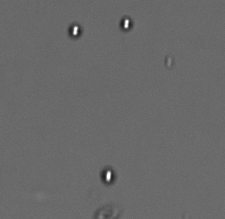Living Cell: (67, 22, 84, 40), (100, 166, 117, 184), (119, 14, 134, 31)
